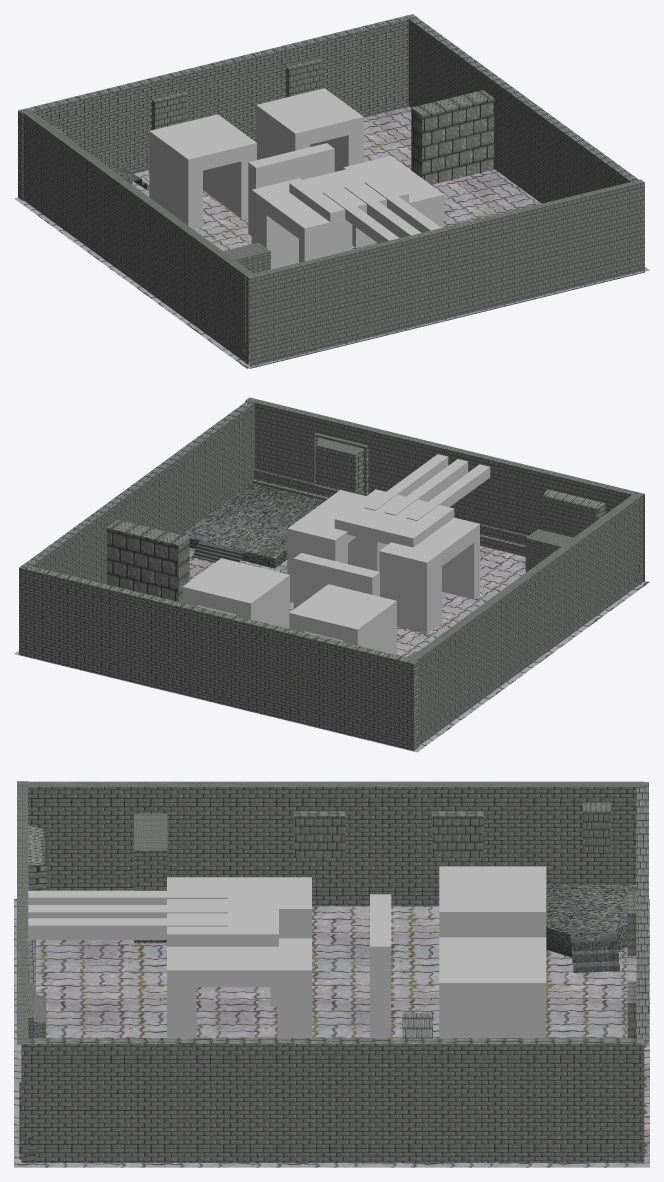
The model's file is enviourment.fbx.
3 renders of one model, top to bottom at view 1: azimuth 30°, elevation 25°; view 2: azimuth 150°, elevation 25°; view 3: azimuth 270°, elevation 25°, orthographic. The views are drawn at different scales.
Visible parts, largest first — view 1: wall, buldings, ground; view 2: wall, buldings, stage, ground; view 3: wall, buldings, ground, stage.
Part boxes in pixels (box(x1,y1,x2,y2)): wall: box(18, 14, 644, 368); buldings: box(149, 88, 444, 269); ground: box(14, 106, 649, 368); wall: box(19, 397, 644, 750); buldings: box(182, 454, 490, 655); stage: box(181, 483, 324, 568); ground: box(14, 546, 649, 752); wall: box(17, 781, 648, 1163); buldings: box(28, 866, 546, 1038); ground: box(14, 899, 649, 1167); stage: box(19, 885, 636, 1159).
Bounding box in the file's own units: 50 × 10.77 × 50.
